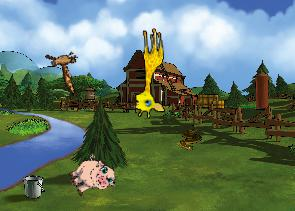eagle: (35, 39, 94, 96)
giraffe: (131, 27, 165, 118)
pig: (64, 150, 119, 203)
